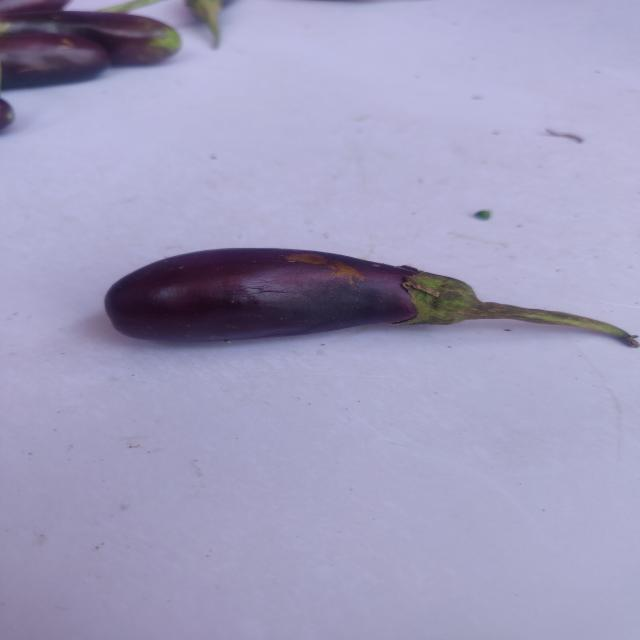Brinjal: (98, 236, 640, 359)
